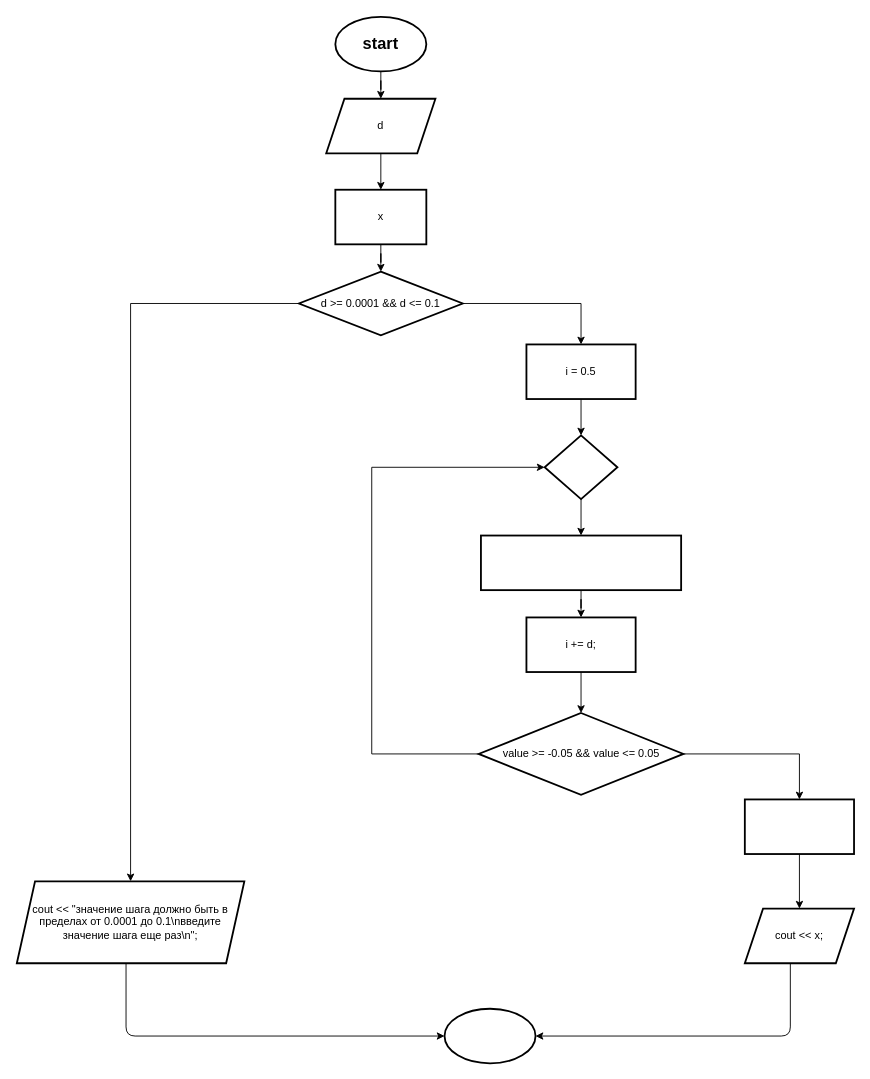
Image size: 870x1079. Some labels were removed from this diagram. The centre of each missing label's shape, as x and y in pixels:
end: [489,1035]
i <= 1.5: [580,467]
value = sqrt(cos(i)) + log(sin(i)) - 0.5;: [581,562]
x = i;: [798,826]
